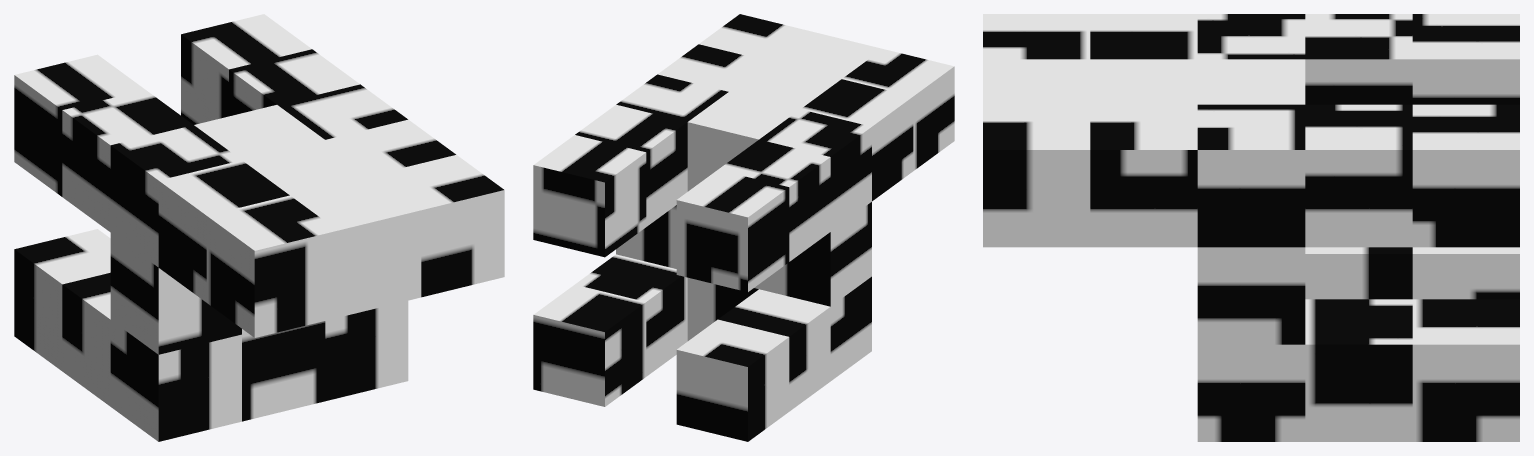
3 renders of one model, left to right at view 1: azimuth 30°, elevation 25°; view 2: azimuth 150°, elevation 25°; view 3: azimuth 270°, elevation 25°, orthographic. The views are drawn at different scales.
Bounding box in the file's own units: 0.072 × 0.072 × 0.12.
